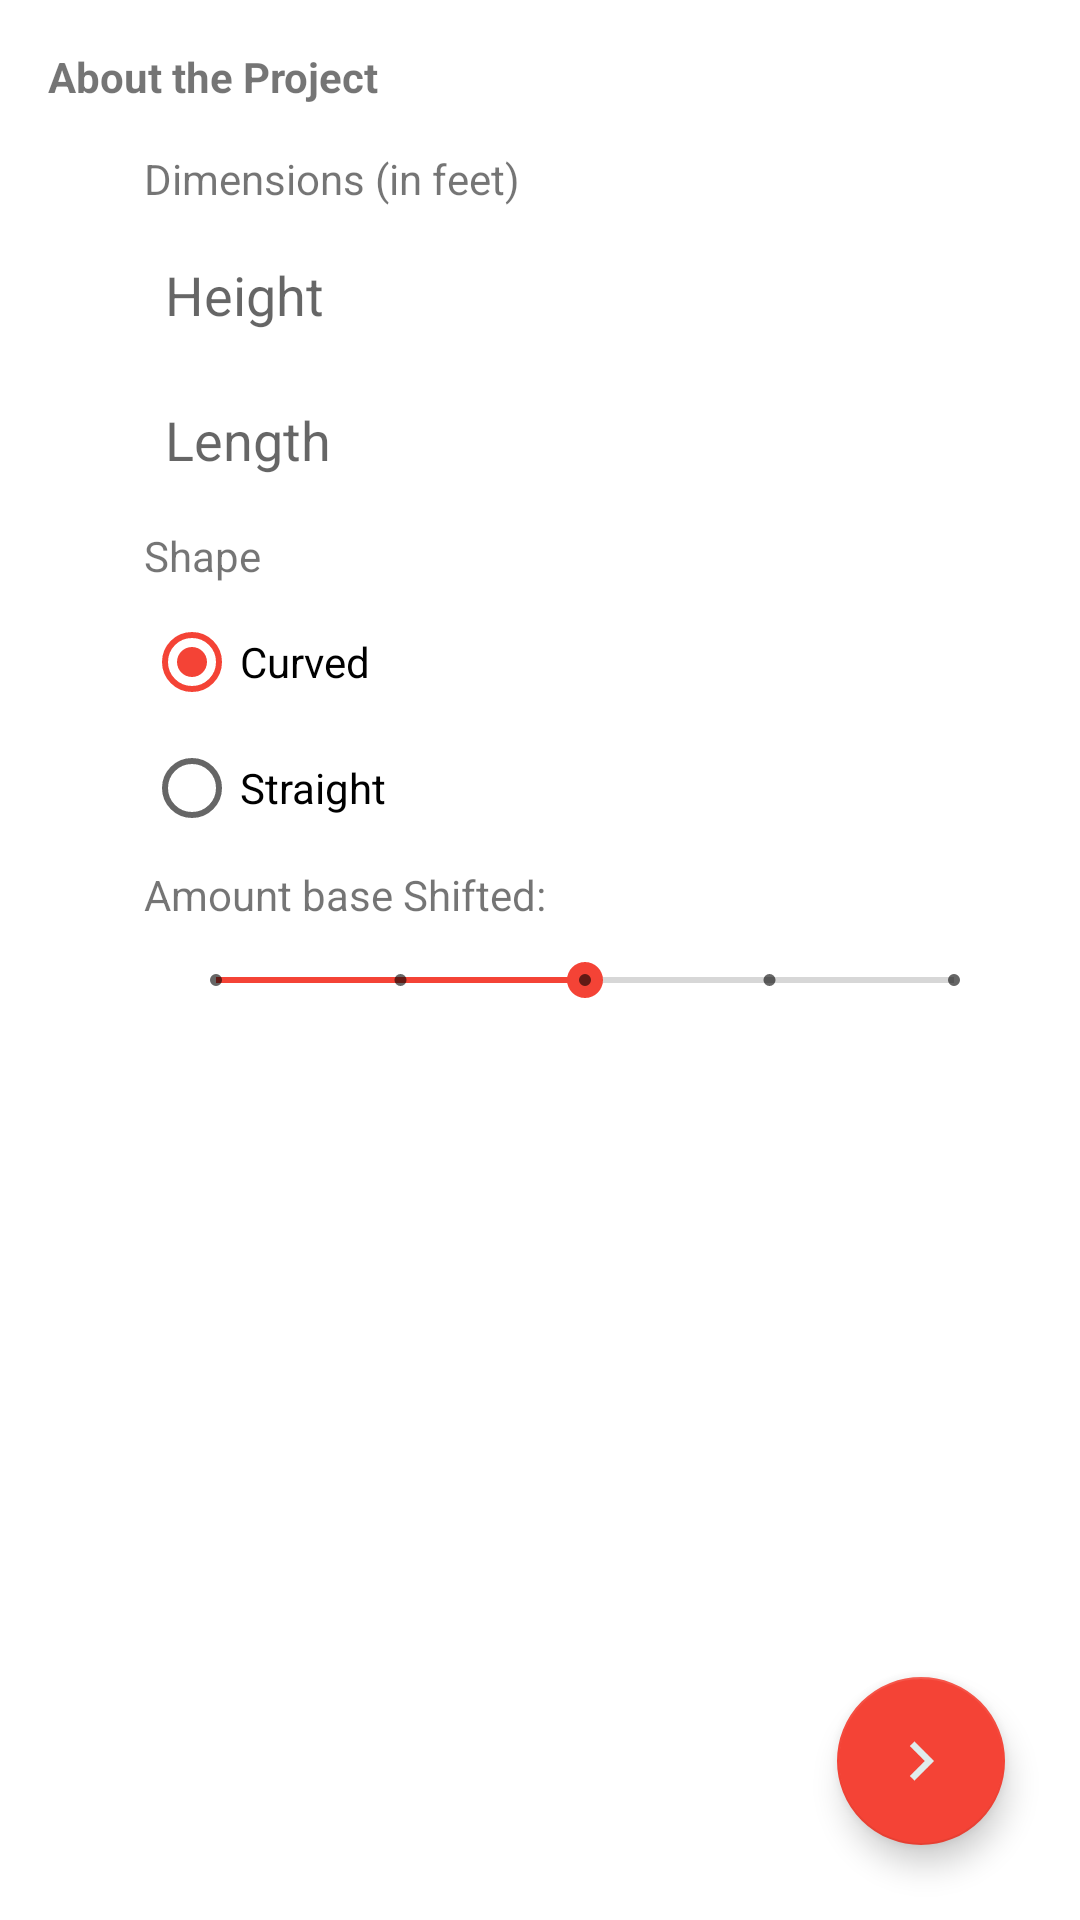

Icon click points for this 1080*1920 phone screenshot, format (x=x, y=y):
right arrow: (x=921, y=1761)
